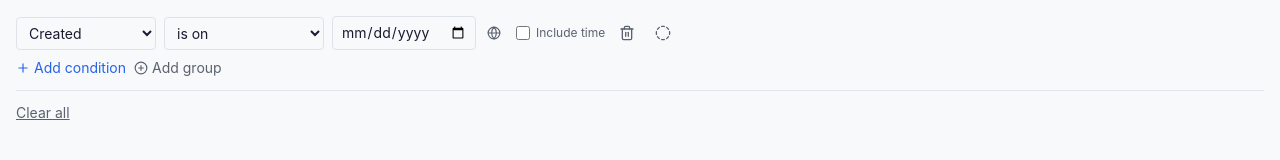
date-first conditions in the filter builder › offers the weekday conditions, which switch the row to the weekday input
Select "day is any of" in the dropdown named "Filter operator" at (244, 33), box [164, 16, 324, 50]
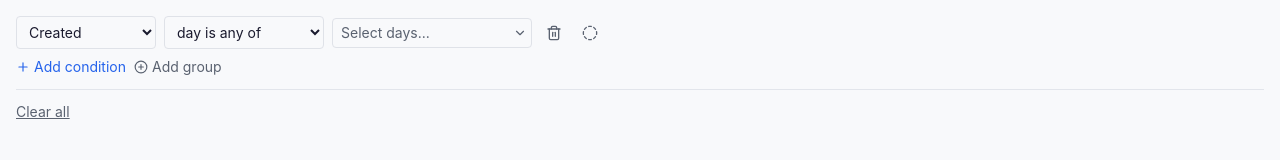
Check: the dropdown named "Filter weekdays for Created" is shown, box [332, 18, 532, 48]
Check: the label "Include time" is gone
